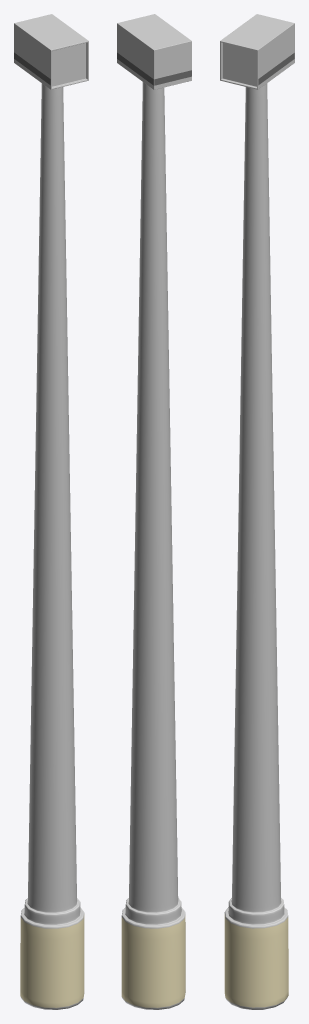
The model's file is wind_turbine_pole.dae.
3 renders of one model, left to right at view 1: azimuth 30°, elevation 25°; view 2: azimuth 210°, elevation 25°; view 3: azimuth 330°, elevation 25°, orthographic.
Visible parts, largest first — view 1: Cylinder.003, Cube_Cube.002; view 2: Cylinder.003, Cube_Cube.002; view 3: Cylinder.003, Cube_Cube.002.
Boxes of the visible parts, <box> form: Cylinder.003: <box>20,83,84,1009</box>; Cube_Cube.002: <box>14,14,88,89</box>; Cylinder.003: <box>121,82,185,1009</box>; Cube_Cube.002: <box>117,14,191,89</box>; Cylinder.003: <box>224,83,288,1009</box>; Cube_Cube.002: <box>220,14,294,89</box>.
Size of the model in its own units: 0.3105 by 0.3558 by 5.12.
